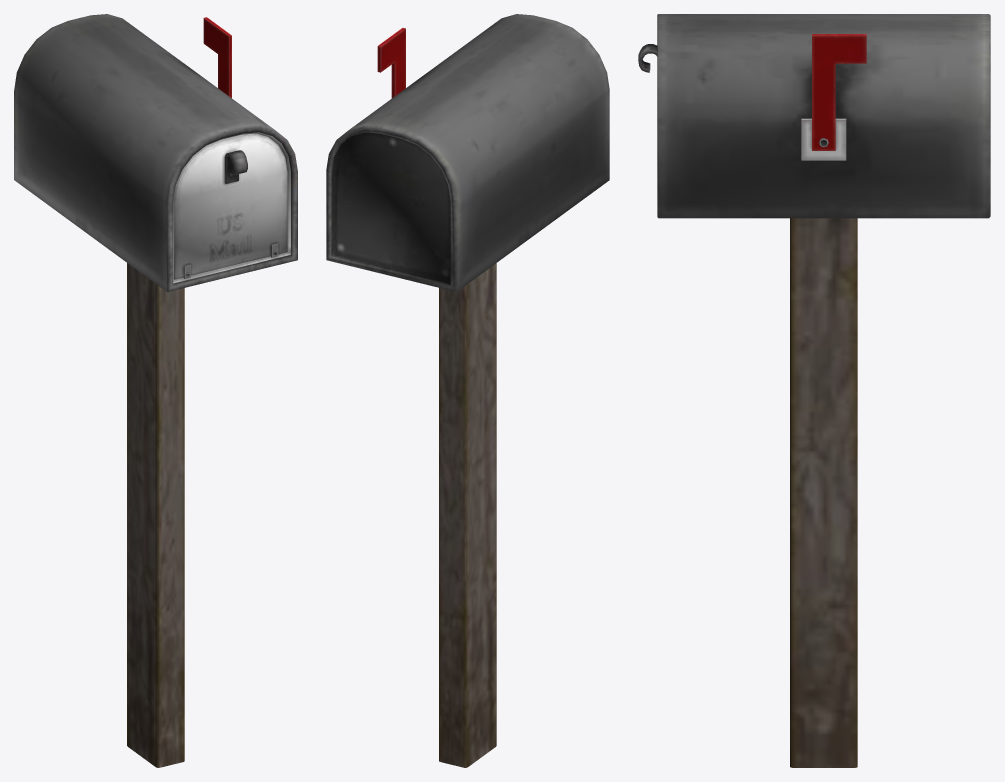
File: mailbox.lod0.glb
3 views of the same model, side by side, from view 1: azimuth 30°, elevation 25°; view 2: azimuth 150°, elevation 25°; view 3: azimuth 270°, elevation 25° (orthographic). The views are drawn at different scales.
Parts seen in each view (by area): view 1: Object_4; view 2: Object_4; view 3: Object_4.
Boxes of the visible parts, x1,y1,x2,y2 form: Object_4: [14, 14, 297, 767]; Object_4: [326, 14, 609, 767]; Object_4: [638, 14, 990, 767].
Bounding box in the file's own units: 0.2567 × 1.25 × 0.5234.
1 material, 1 textured.
